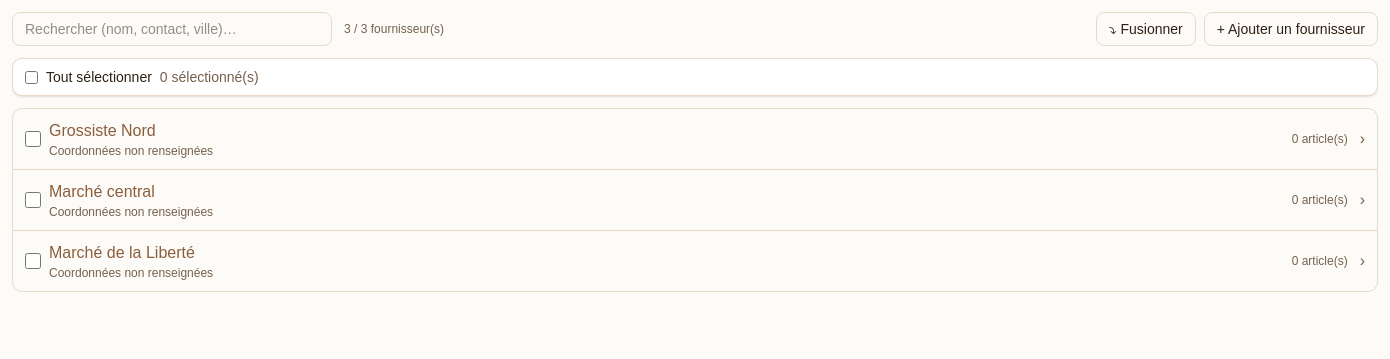
Fournisseurs — actions groupées › supprimer la sélection : confirmation, puis une requête pour le lot et le bilan
Click the checkbox named "Sélectionner Grossiste Nord". click: (33, 139)
box: [25,131,41,147]
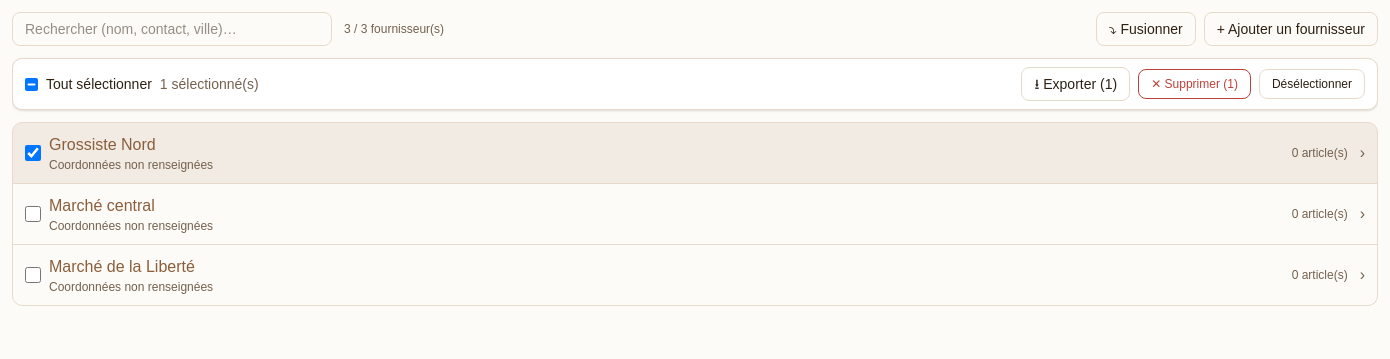
Click the checkbox named "Sélectionner Marché central". click: (33, 214)
box: [25,206,41,222]
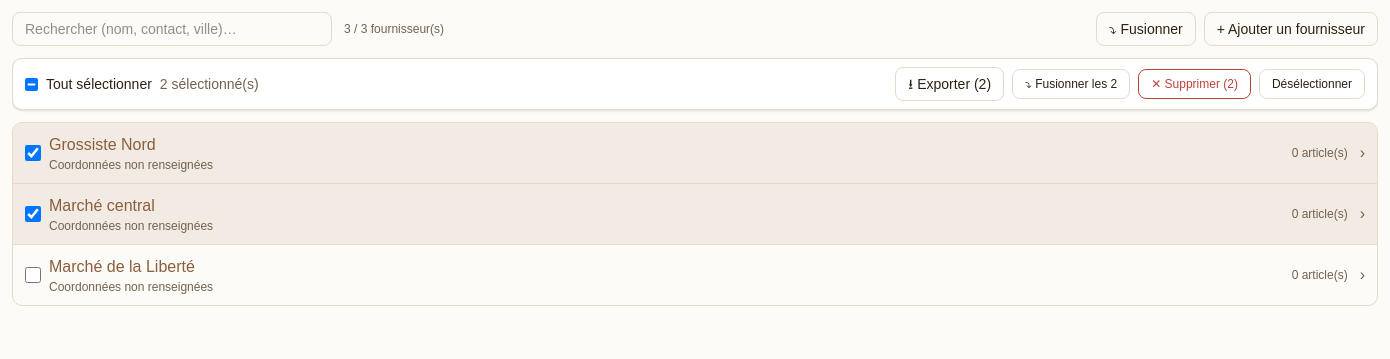
Click the button "✕ Supprimer (2)". click: (1195, 84)
box: [1138,69,1251,99]
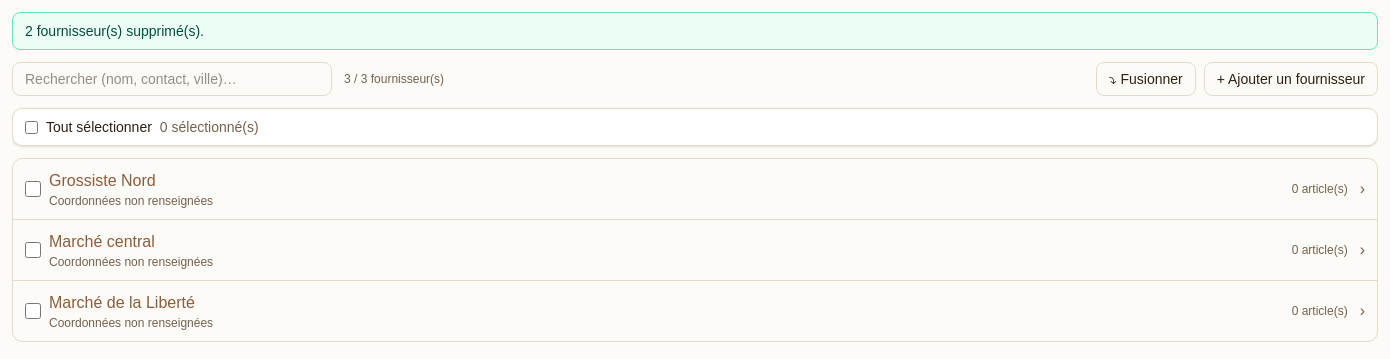
Expected: the message "2 fournisseur(s) supprimé(s)." is shown, [12,12,1378,50]
